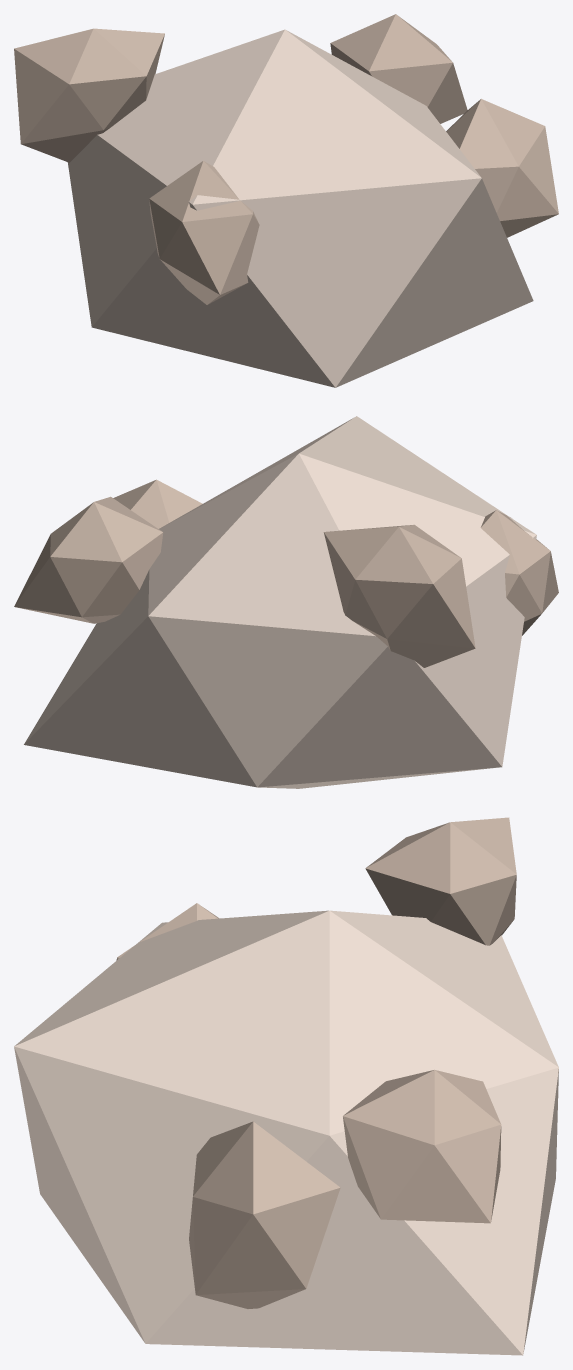
File: raw_iron_held.gltf
The picture shows the model from 3 angles, top to bottom: view 1: azimuth 30°, elevation 25°; view 2: azimuth 150°, elevation 25°; view 3: azimuth 270°, elevation 25°; orthographic projection. The views are drawn at different scales.
Parts seen in each view (by area): view 1: ore_raw_iron_held; view 2: ore_raw_iron_held; view 3: ore_raw_iron_held.
Part boxes in pixels (x1,y1,x2,y2): ore_raw_iron_held: [14, 14, 558, 387]; ore_raw_iron_held: [14, 416, 558, 788]; ore_raw_iron_held: [14, 817, 558, 1355].
Bounding box in the file's own units: 0.1121 × 0.0767 × 0.0947.
